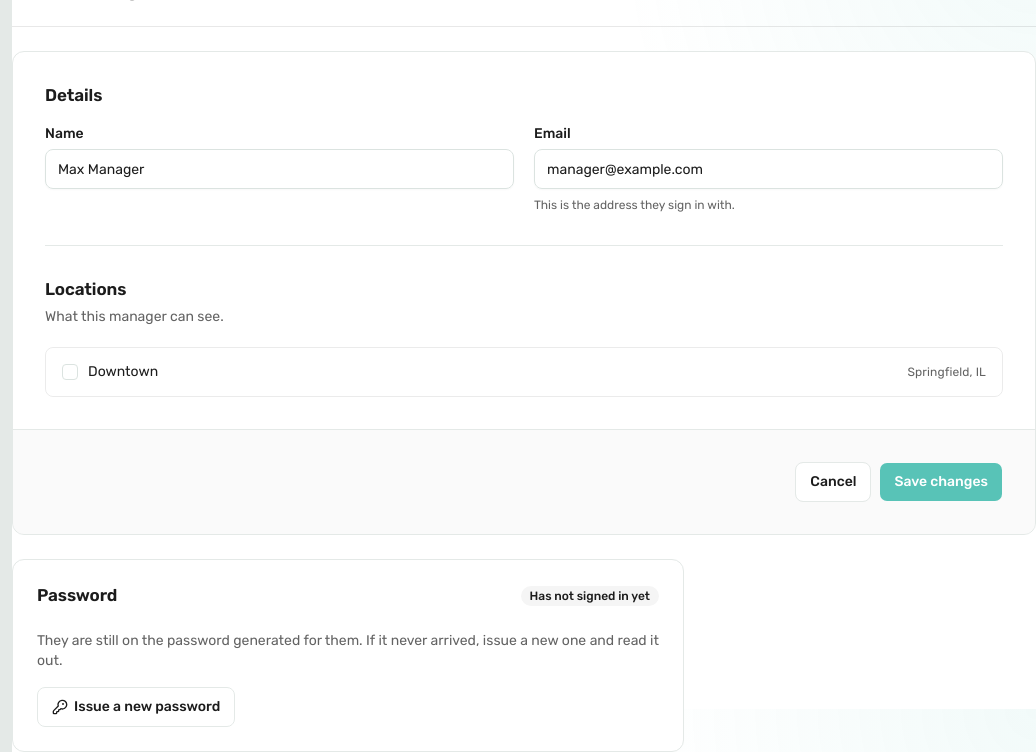
Test: EditTeamMemberPage › issues a fresh password and shows it
(page scrolled)
Click the button "Issue a new password" at (136, 707), box [37, 687, 235, 727]
(page scrolled)
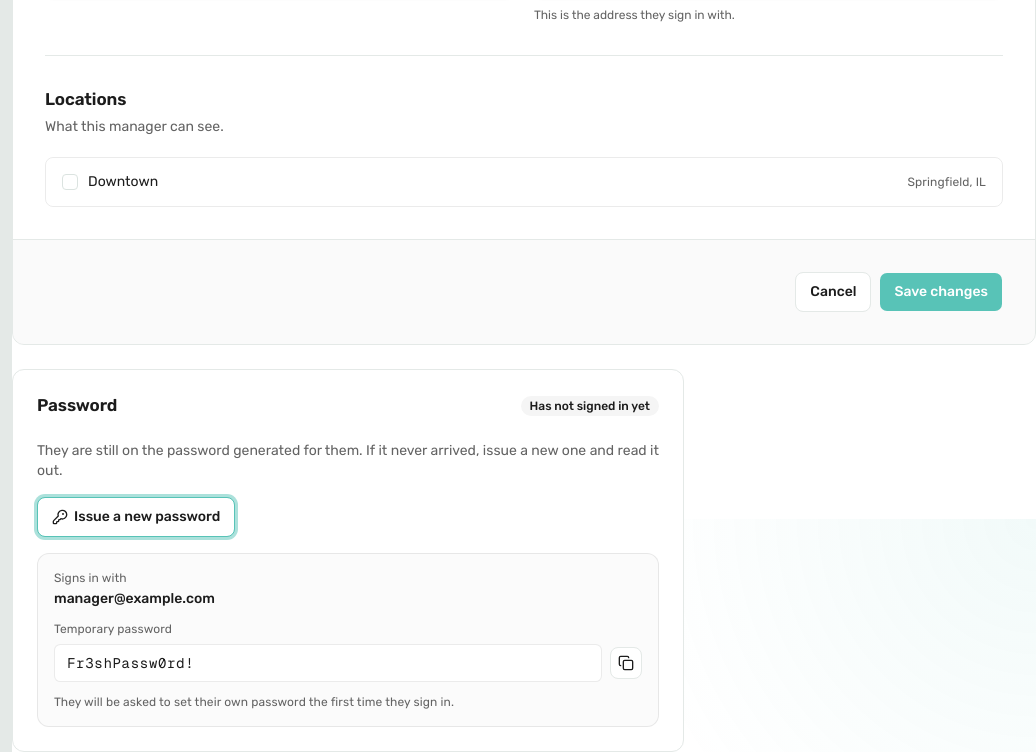
expect the text "Fr3shPassw0rd!" is shown: met, box [54, 644, 602, 682]
